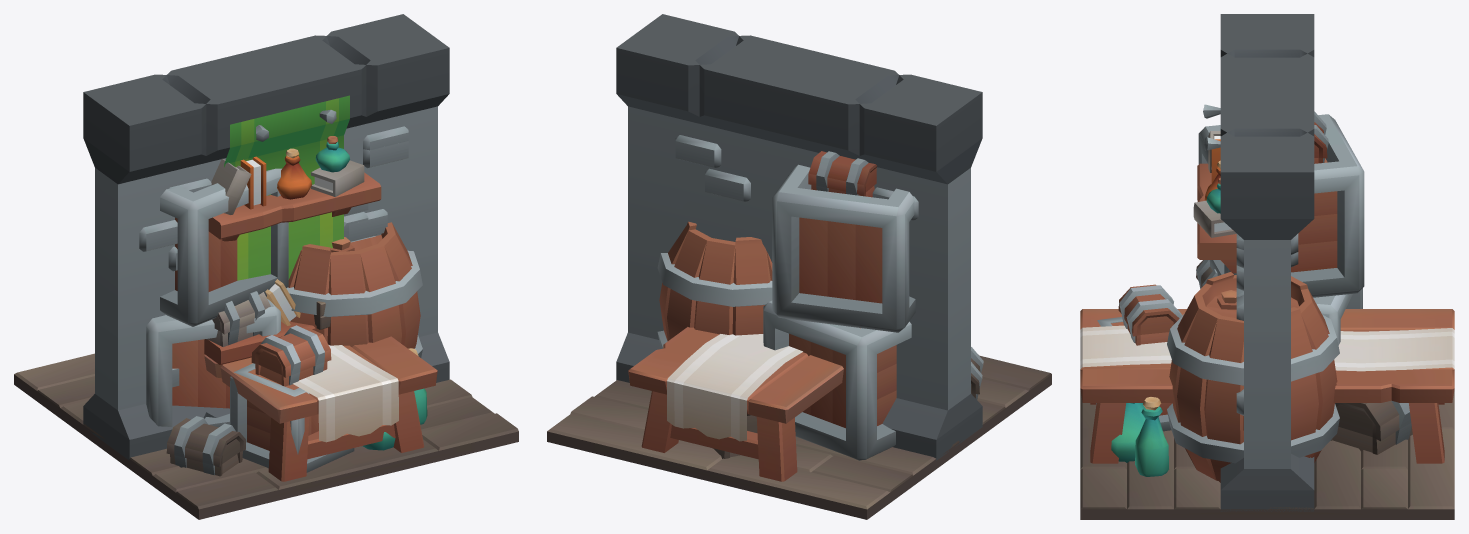
File: sala.glb
3 renders of one model, left to right at view 1: azimuth 30°, elevation 25°; view 2: azimuth 150°, elevation 25°; view 3: azimuth 270°, elevation 25°, orthographic.
Visible parts, largest first — view 1: wall, box_stacked, wall_shelves, floor_wood_large_dark, table_long_tablecloth, banner_green, shelves; view 2: wall_shelves, box_stacked, floor_wood_large_dark, table_long_tablecloth, wall; view 3: box_stacked, wall, table_long_tablecloth, floor_wood_large_dark, wall_shelves.
Boxes of the visible parts, bbox=[...] form: wall: bbox=[83, 14, 449, 460]; box_stacked: bbox=[146, 168, 427, 476]; wall_shelves: bbox=[85, 15, 449, 450]; floor_wood_large_dark: bbox=[14, 353, 518, 519]; table_long_tablecloth: bbox=[204, 336, 437, 481]; banner_green: bbox=[224, 95, 349, 280]; shelves: bbox=[220, 184, 380, 364]; wall_shelves: bbox=[616, 14, 981, 460]; box_stacked: bbox=[657, 151, 983, 460]; floor_wood_large_dark: bbox=[547, 356, 1051, 519]; table_long_tablecloth: bbox=[628, 327, 843, 481]; wall: bbox=[616, 14, 982, 446]; box_stacked: bbox=[1096, 111, 1412, 482]; wall: bbox=[1220, 14, 1314, 511]; table_long_tablecloth: bbox=[1080, 309, 1454, 463]; floor_wood_large_dark: bbox=[1080, 389, 1454, 519]; wall_shelves: bbox=[1193, 14, 1314, 511].
Size of the model in its own units: 4 by 4.38 by 4.
1 material, 1 textured.
